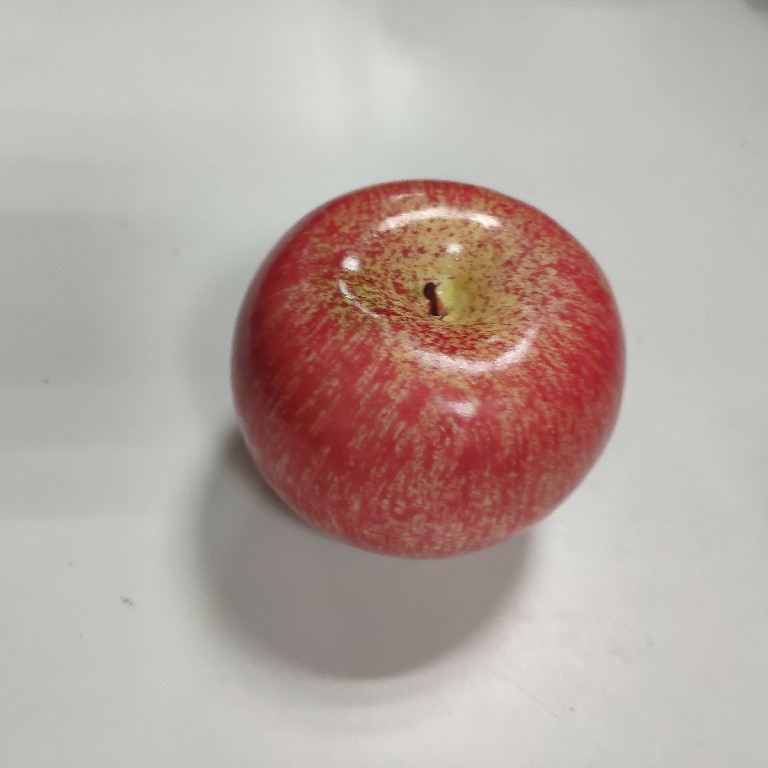fruit_apple: (222, 173, 633, 565)
